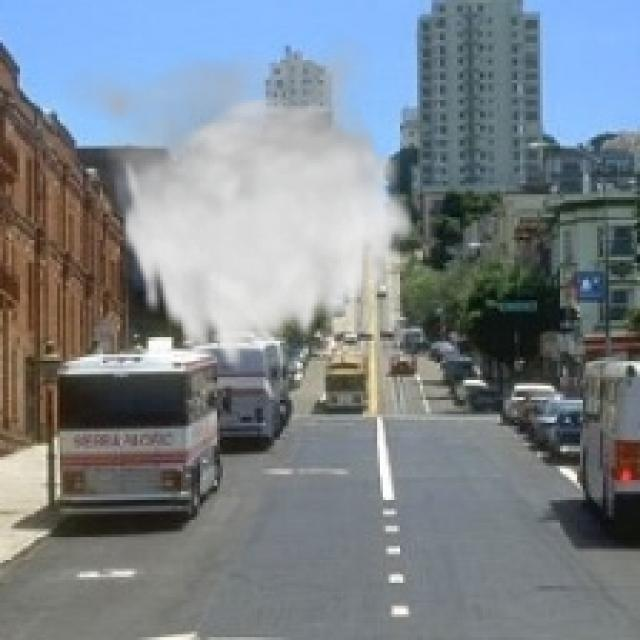smoke: (57, 29, 417, 377)
